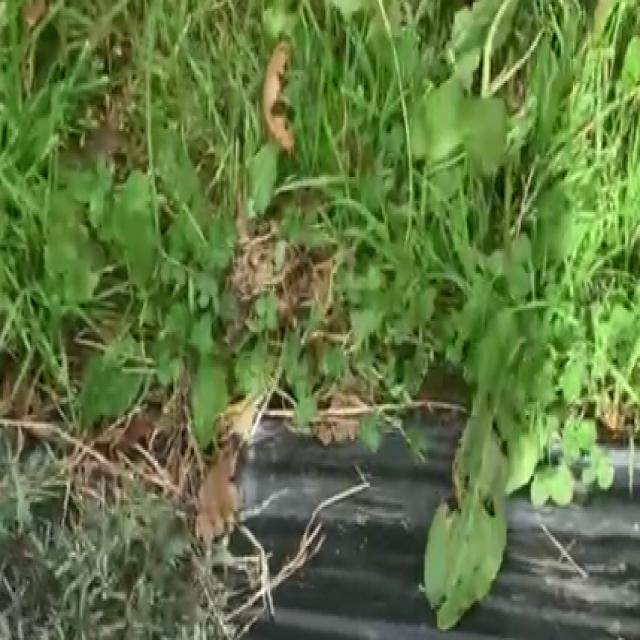organic waste: (31, 101, 315, 417), (413, 183, 588, 640), (360, 16, 532, 240)
